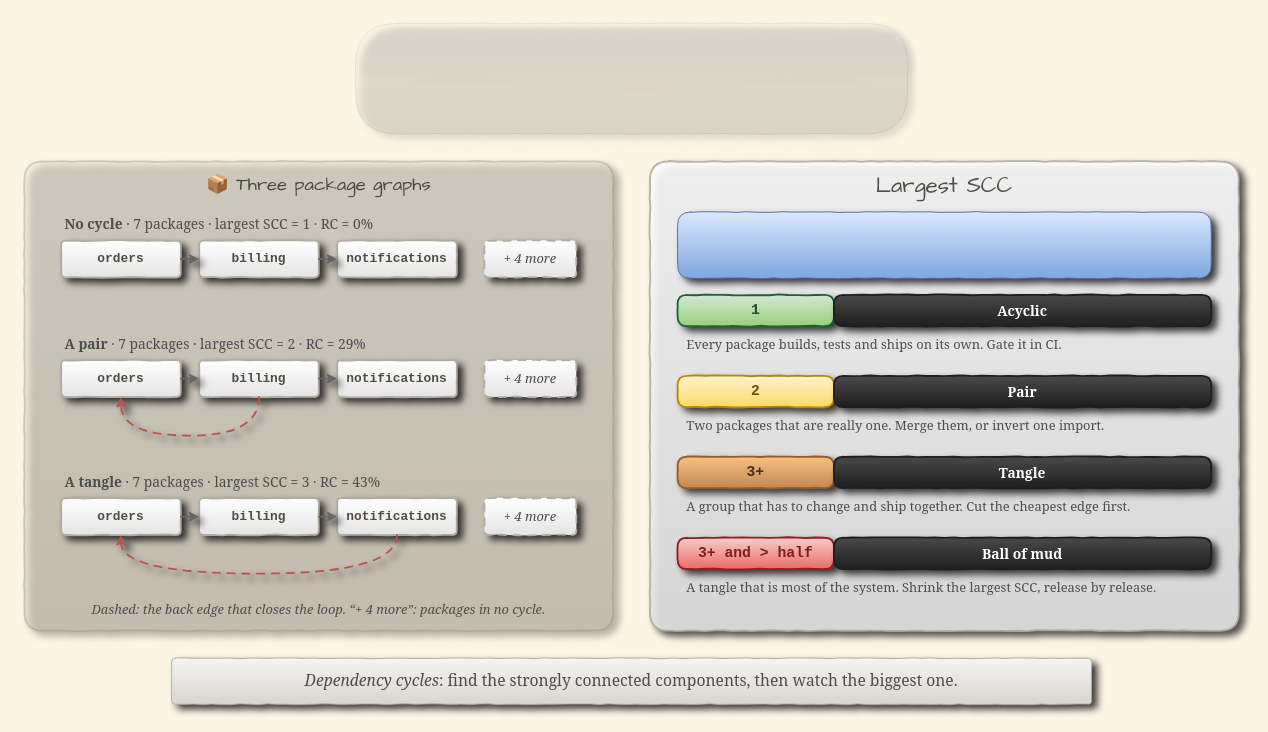
Image size: 1268x732. Some labels were removed from this diagram. The shapes that lost their labels are listed below. From the top down, each one's centre as x and y in pixels, then its label:
At (633,80): "Dependency Cycles How much is welded together? by Steven Miers".
At (946,247): "SCC = packages that can all reach each other tangle = size of the largest SCC".
